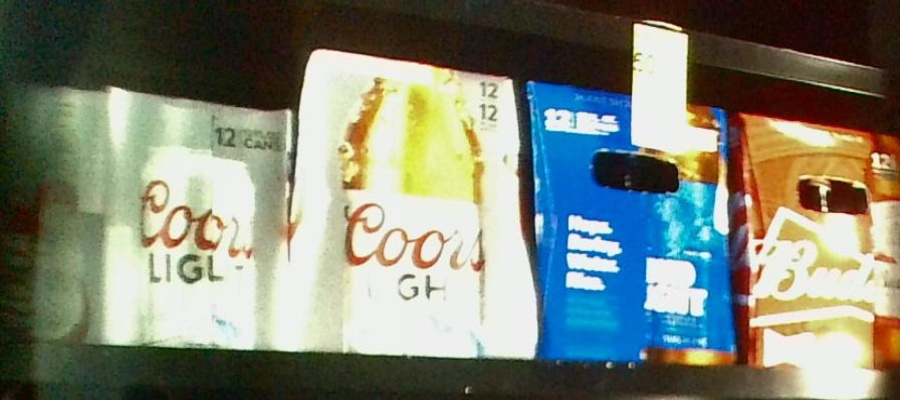bottle: (298, 49, 531, 361), (528, 79, 735, 365), (98, 85, 289, 349), (732, 108, 900, 369), (1, 90, 101, 345)
